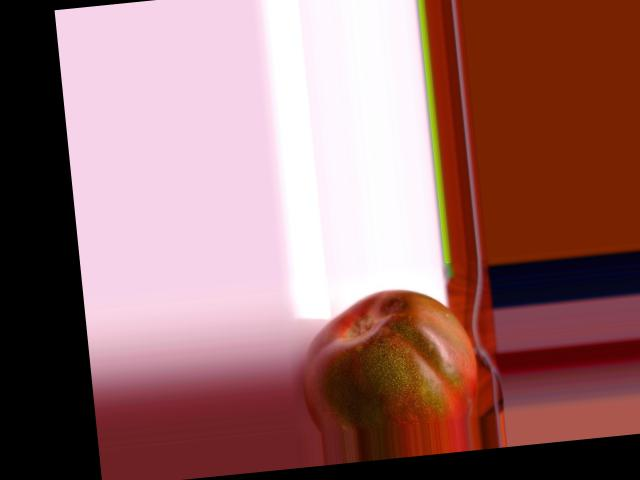tomato: (295, 282, 482, 435)
